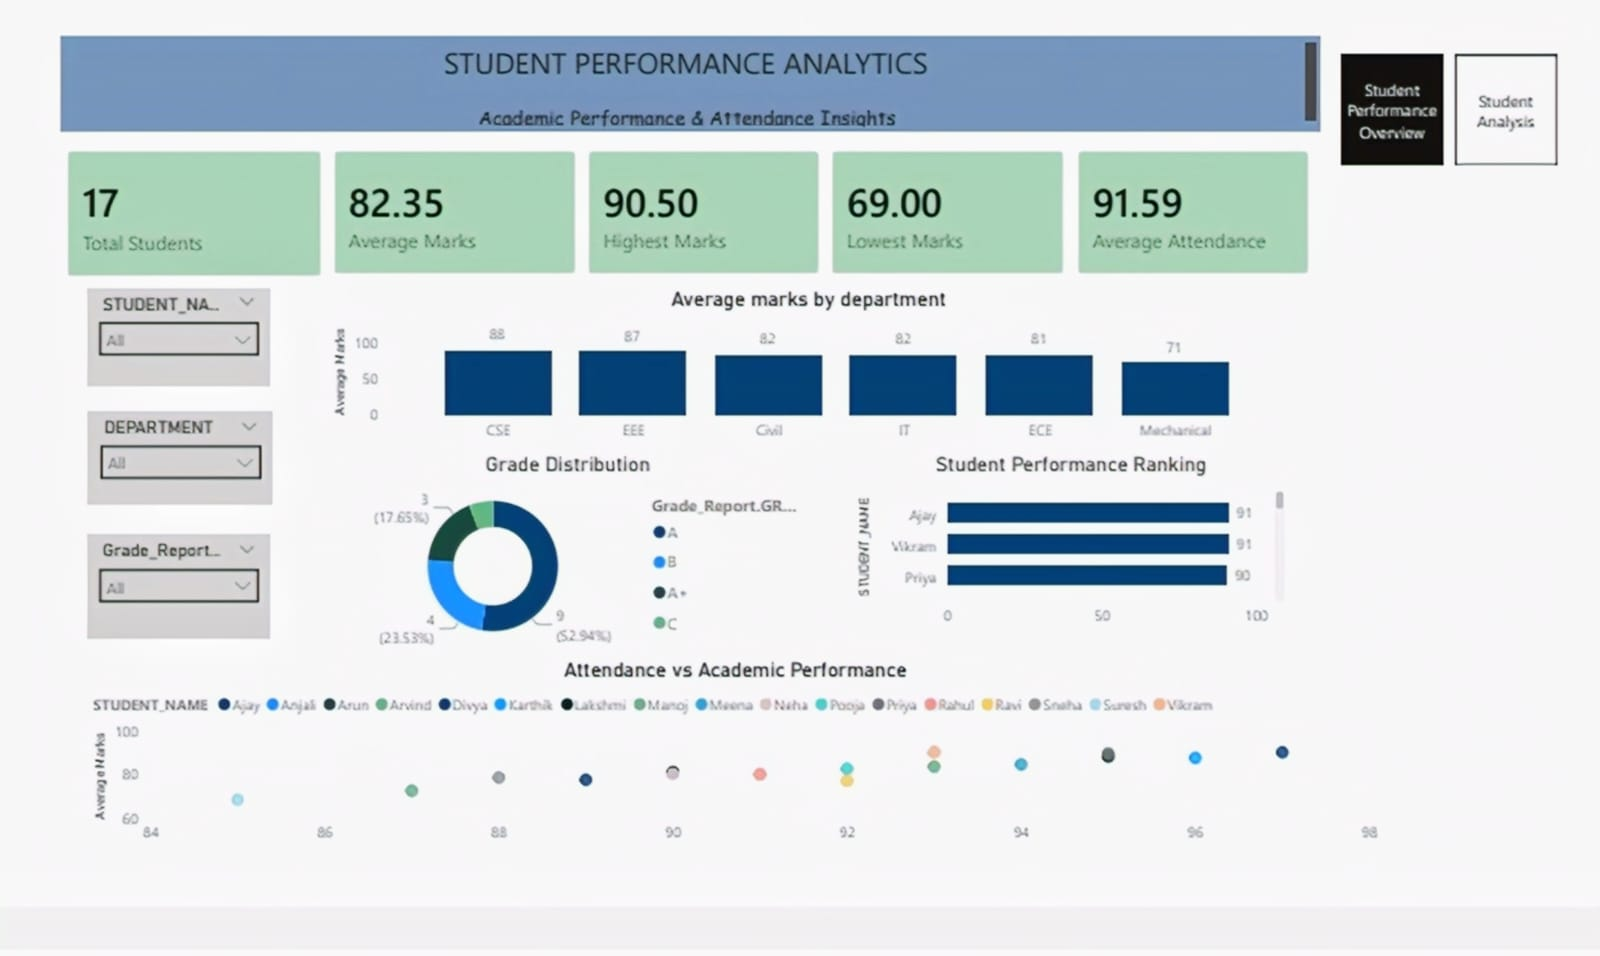

What the dashboard file says about the page in this screenshot:
{"tool":"powerbi","page":{"name":"Student Performance Overview","canvas":[1280,720],"ordinal":0},"visuals":[{"type":"cardVisual","title":"Total Students","fields":{"Data":["Student_Performance_Report.Total Students"]},"box":[30,114.3,220,114.3],"z":0},{"type":"cardVisual","fields":{"Data":["Student_Performance_Report.Lowest Marks"]},"box":[661.4,114.3,202.9,112.9],"z":1000},{"type":"cardVisual","fields":{"Data":["Student_Performance_Report.Average Attendance"]},"box":[864.3,114.3,201.4,112.9],"z":2000},{"type":"cardVisual","fields":{"Data":["Student_Performance_Report.Average Marks"]},"box":[250,114.3,210,112.9],"z":3000},{"type":"cardVisual","fields":{"Data":["Student_Performance_Report.Highest Marks"]},"box":[460,114.3,201.4,112.9],"z":4000},{"type":"clusteredColumnChart","title":"Average marks by department","fields":{"Category":["Student_Performance_Report.DEPARTMENT"],"Y":["Student_Performance_Report.Average Marks"]},"box":[274.3,232.9,795.7,137.1],"z":5000},{"type":"clusteredBarChart","title":"Student Performance Ranking","fields":{"Category":["Student_Performance_Report.STUDENT_NAME"],"Y":["Student_Performance_Report.Average Marks"]},"box":[684.3,372.9,381.4,184.3],"z":6000},{"type":"donutChart","title":"Grade Distribution","fields":{"Category":["Student_Performance_Report.Grade_Report.GRADE"],"Y":["CountNonNull(Student_Performance_Report.STUDENT_ID)"]},"box":[274.3,368.6,398.6,184.3],"z":7000},{"type":"scatterChart","title":"Attendance vs Academic Performance","fields":{"Series":["Student_Performance_Report.STUDENT_NAME"],"Y":["Student_Performance_Report.Average Marks"],"X":["Student_Performance_Report.Attendance Percentage"]},"box":[0,557.1,1070,162.9],"z":8000},{"type":"slicer","fields":{"Values":["Student_Performance_Report.STUDENT_NAME"]},"box":[51.4,254.3,151.4,80],"z":9000},{"type":"slicer","fields":{"Values":["Student_Performance_Report.DEPARTMENT"]},"box":[51.4,360,151.4,77.1],"z":10000},{"type":"slicer","fields":{"Values":["Student_Performance_Report.Grade_Report.GRADE"]},"box":[51.4,460,151.4,84.3],"z":11000},{"type":"textbox","box":[30,25,1040,78.3],"z":12000},{"type":"pageNavigator","box":[1086.7,40,178.3,91.7],"z":12001}]}

Visuals, with their boxes on the page's 1280x720 design canvas (x1, y1, x2, y2). These are canvas units, not pixel positions in the 1600x956 screenshot, which may show the page scaled, cropped or inside an application window:
"Total Students" cardVisual: locate(30, 114, 250, 229)
cardVisual - Student_Performance_Report.Lowest Marks: locate(661, 114, 864, 227)
cardVisual - Student_Performance_Report.Average Attendance: locate(864, 114, 1066, 227)
cardVisual - Student_Performance_Report.Average Marks: locate(250, 114, 460, 227)
cardVisual - Student_Performance_Report.Highest Marks: locate(460, 114, 661, 227)
"Average marks by department" clusteredColumnChart: locate(274, 233, 1070, 370)
"Student Performance Ranking" clusteredBarChart: locate(684, 373, 1066, 557)
"Grade Distribution" donutChart: locate(274, 369, 673, 553)
"Attendance vs Academic Performance" scatterChart: locate(0, 557, 1070, 720)
slicer - Student_Performance_Report.STUDENT_NAME: locate(51, 254, 203, 334)
slicer - Student_Performance_Report.DEPARTMENT: locate(51, 360, 203, 437)
slicer - Student_Performance_Report.Grade_Report.GRADE: locate(51, 460, 203, 544)
textbox: locate(30, 25, 1070, 103)
pageNavigator: locate(1087, 40, 1265, 132)
